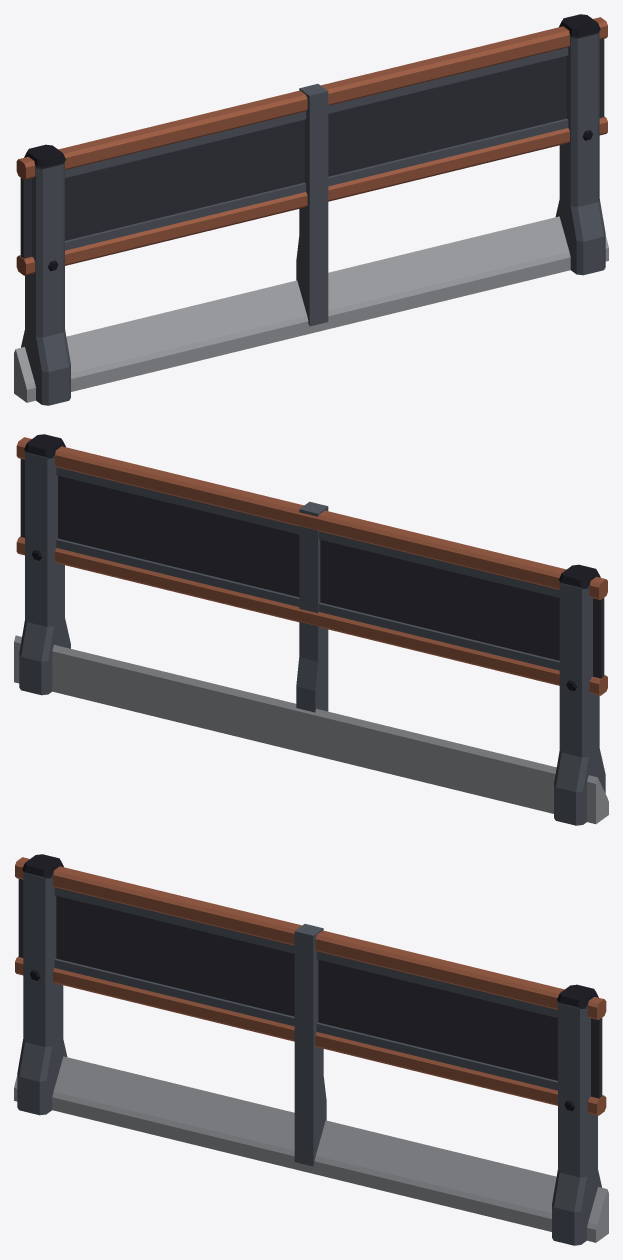
File: safety-railing-run-ba0603.glb
3 renders of one model, top to bottom at view 1: azimuth 30°, elevation 25°; view 2: azimuth 150°, elevation 25°; view 3: azimuth 330°, elevation 25°, orthographic.
Visible parts, largest first — view 1: safety-railing-mesh; view 2: safety-railing-mesh; view 3: safety-railing-mesh.
Part boxes in pixels (x1,y1,x2,y2): safety-railing-mesh: (14, 14, 608, 405); safety-railing-mesh: (14, 434, 608, 825); safety-railing-mesh: (14, 854, 608, 1245).
Bounding box in the file's own units: 4 × 1.58 × 0.33.
